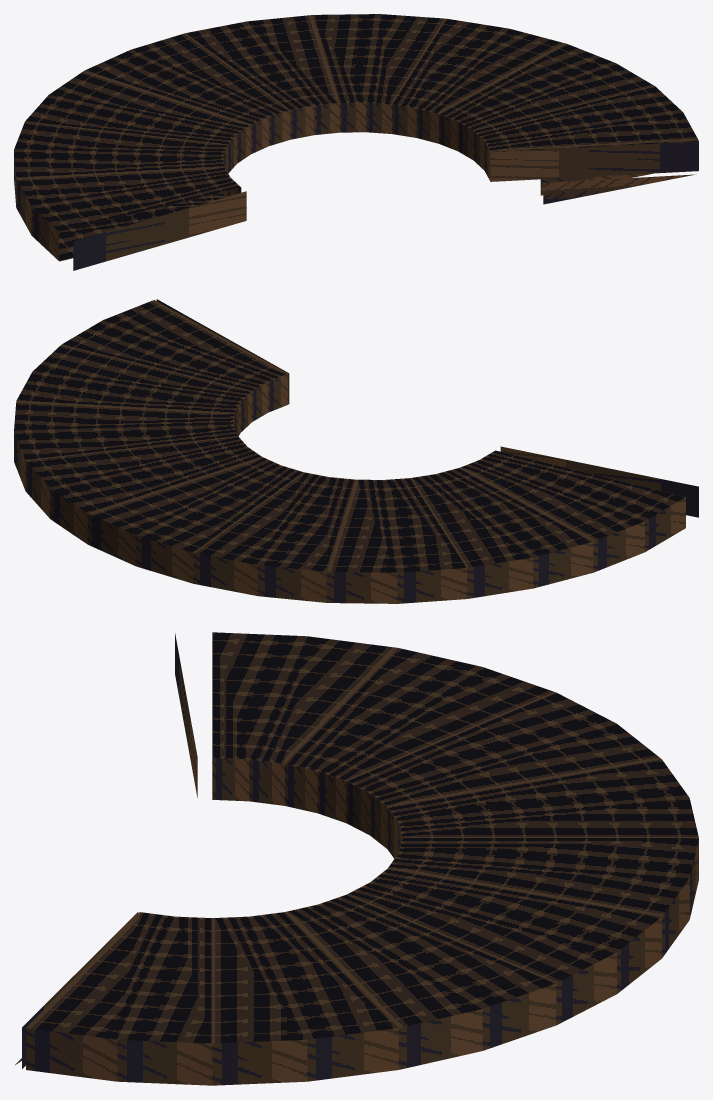
The model's file is TOR-05_Rellano_interior.gltf.
3 renders of one model, top to bottom at view 1: azimuth 30°, elevation 25°; view 2: azimuth 150°, elevation 25°; view 3: azimuth 270°, elevation 25°, orthographic. The views are drawn at different scales.
Visible parts, largest first — view 1: TOR-05_Rellano_interior-col; view 2: TOR-05_Rellano_interior-col; view 3: TOR-05_Rellano_interior-col.
Boxes of the visible parts, x1,y1,x2,y2 form: TOR-05_Rellano_interior-col: [14, 14, 698, 270]; TOR-05_Rellano_interior-col: [14, 299, 698, 603]; TOR-05_Rellano_interior-col: [15, 632, 698, 1085].
Size of the model in its own units: 4.62 by 0.38 by 3.25.
1 material, 1 textured.
